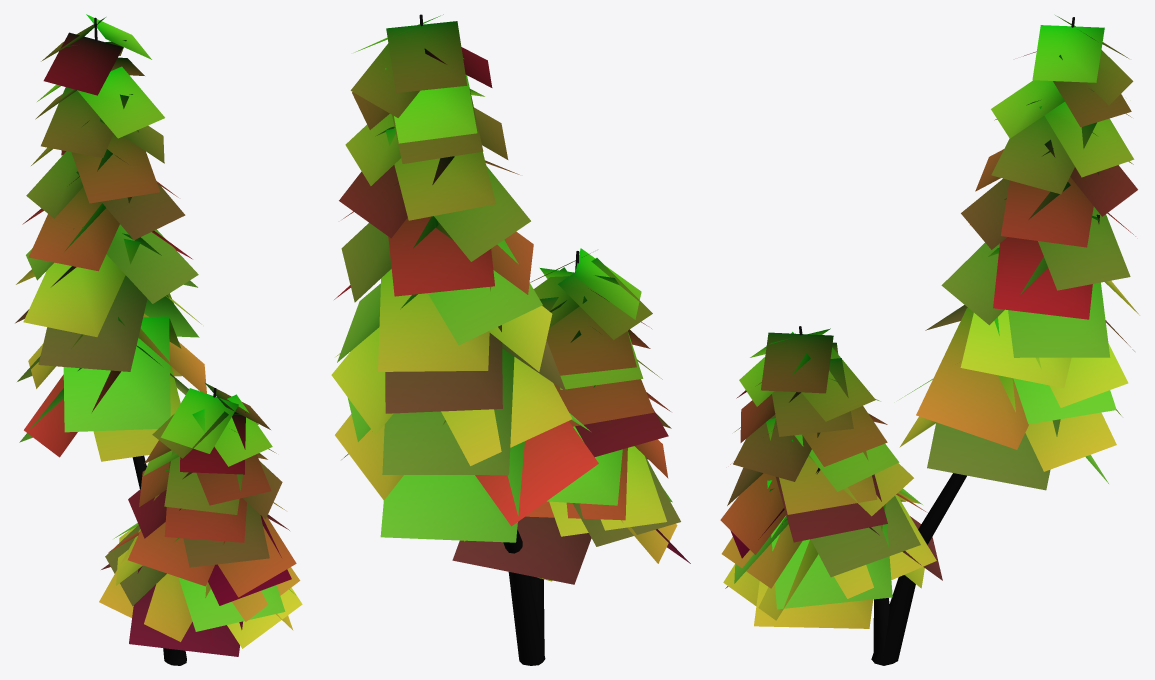
The model's file is Tree_13.fbx.
3 renders of one model, left to right at view 1: azimuth 30°, elevation 25°; view 2: azimuth 150°, elevation 25°; view 3: azimuth 270°, elevation 25°, orthographic. The views are drawn at different scales.
Visible parts, largest first — view 1: Tree_13; view 2: Tree_13; view 3: Tree_13.
Part boxes in pixels (x1,y1,x2,y2): Tree_13: (15,14,302,665); Tree_13: (331,14,690,665); Tree_13: (720,15,1139,665).
Size of the model in its own units: 655 by 2019 by 1192.
